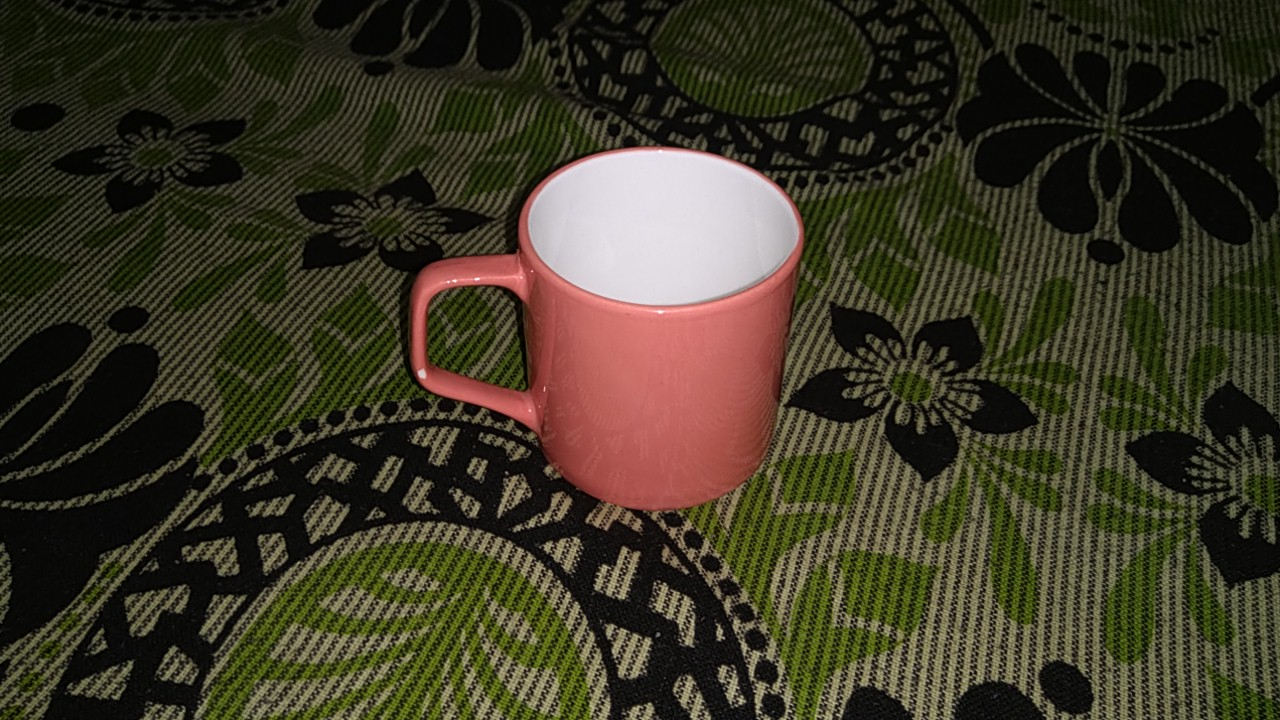cup: (396, 136, 830, 526)
